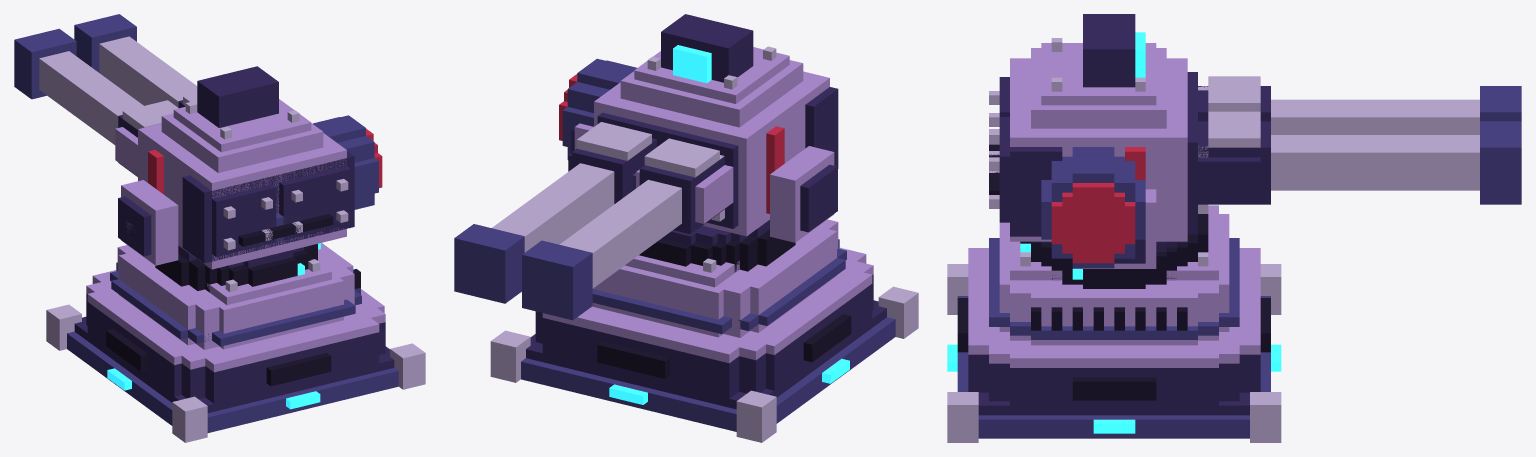
The model's file is autocannon.md.glb.
3 renders of one model, left to right at view 1: azimuth 30°, elevation 25°; view 2: azimuth 150°, elevation 25°; view 3: azimuth 270°, elevation 25°, orthographic. The views are drawn at different scales.
Parts seen in each view (by area): view 1: autocannon.md; view 2: autocannon.md; view 3: autocannon.md.
Part boxes in pixels (x1=…): autocannon.md: x1=14, y1=14, x2=425, y2=442; autocannon.md: x1=454, y1=14, x2=918, y2=442; autocannon.md: x1=947, y1=14, x2=1521, y2=442.
Size of the model in its own units: 2 by 2.25 by 3.44.
